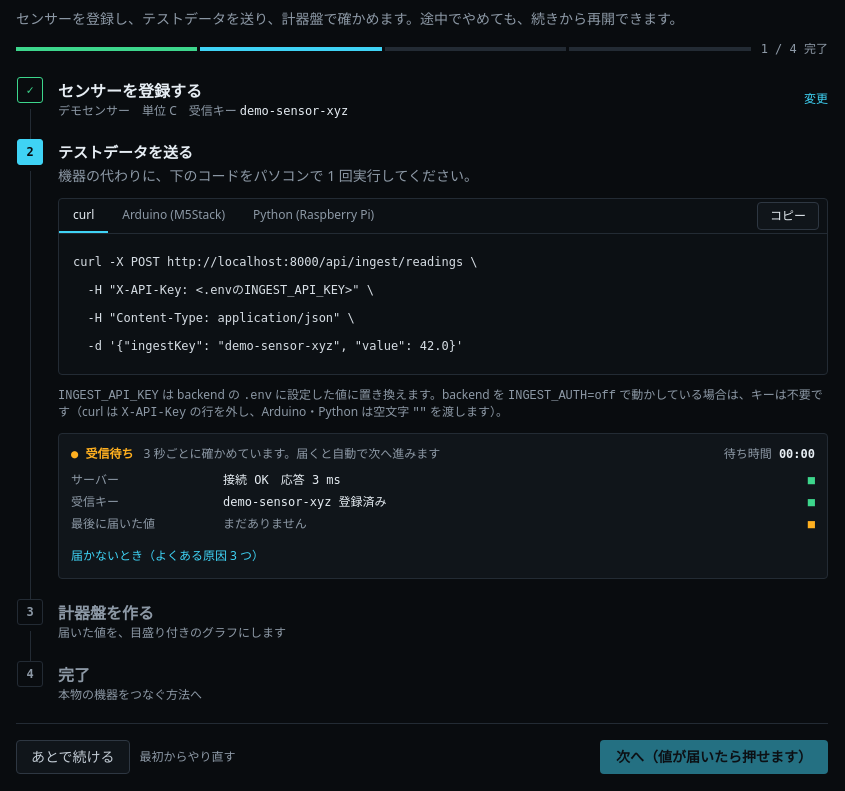
SetupWizard › 「最初からやり直す」で、段階 1 に戻る
The image size is (845, 791).
(page scrolled)
Click the button "最初からやり直す".
click(188, 756)  # box x1=140 y1=748 x2=236 y2=764
(page scrolled)
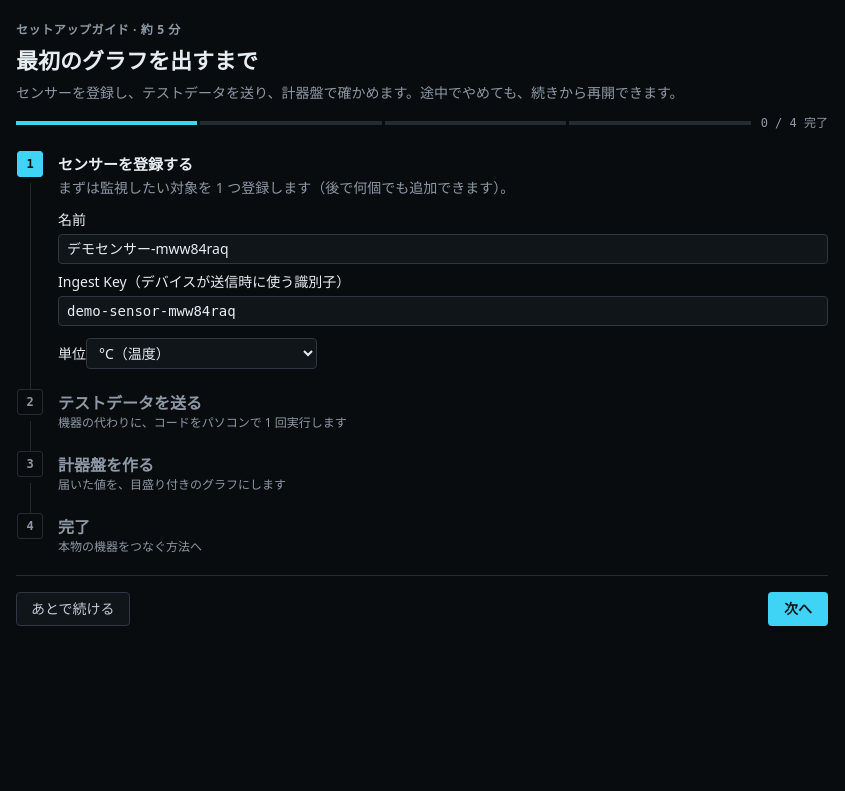
Result: the text "0 / 4 完了" is shown at x1=761 y1=115 x2=828 y2=131
Result: the field labelled "名前" is shown at x1=58 y1=234 x2=828 y2=264
